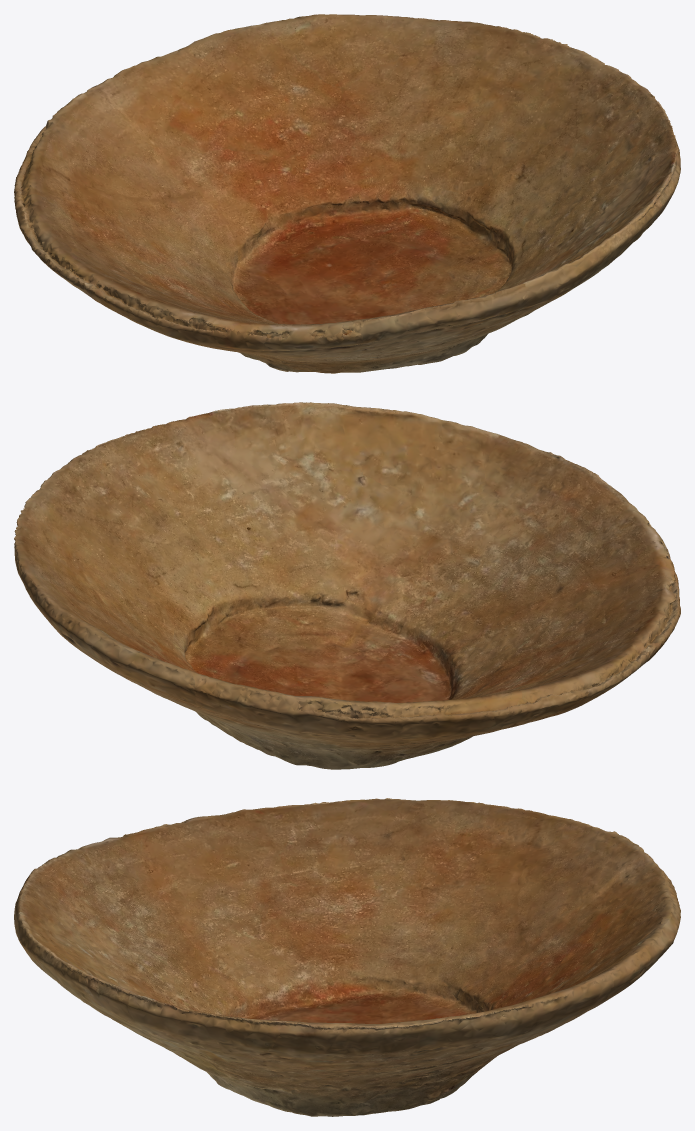
3 views of the same model, one above another, from view 1: azimuth 30°, elevation 25°; view 2: azimuth 150°, elevation 25°; view 3: azimuth 270°, elevation 25° (orthographic).
Parts seen in each view (by area): view 1: Mesh_0.011; view 2: Mesh_0.011; view 3: Mesh_0.011.
Part boxes in pixels (x1,y1,x2,y2): Mesh_0.011: (14, 14, 680, 373); Mesh_0.011: (14, 402, 680, 769); Mesh_0.011: (14, 798, 680, 1116).
Size of the model in its own units: 0.2342 by 0.0683 by 0.2342.
Materials: 1 (1 with a texture image).
